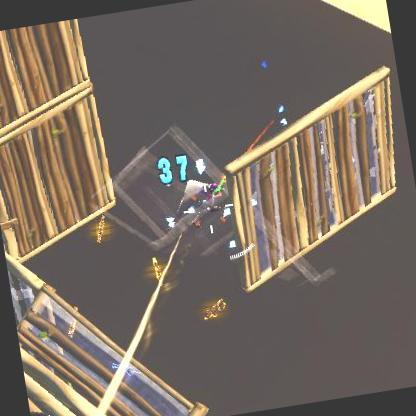person: (184, 181, 224, 226)
